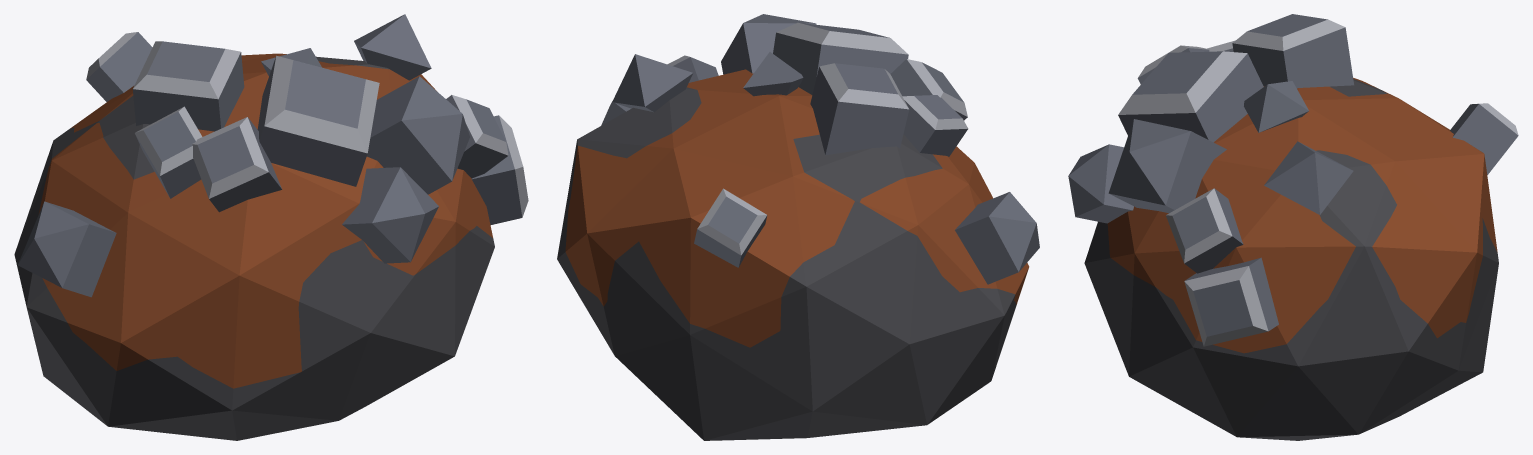
File: iron-ore-chunk-1df386.glb
3 renders of one model, left to right at view 1: azimuth 30°, elevation 25°; view 2: azimuth 150°, elevation 25°; view 3: azimuth 270°, elevation 25°, orthographic. The views are drawn at different scales.
Parts seen in each view (by area): view 1: rock, ore; view 2: rock, ore; view 3: rock, ore.
Part boxes in pixels (left/top/right/bottom): rock: left=14, top=53, right=494, bottom=440; ore: left=18, top=14, right=528, bottom=297; rock: left=557, top=69, right=1029, bottom=440; ore: left=601, top=14, right=1039, bottom=284; rock: left=1084, top=77, right=1498, bottom=440; ore: left=1068, top=14, right=1518, bottom=346.
Size of the model in its own units: 0.2113 by 0.1486 by 0.1806.
